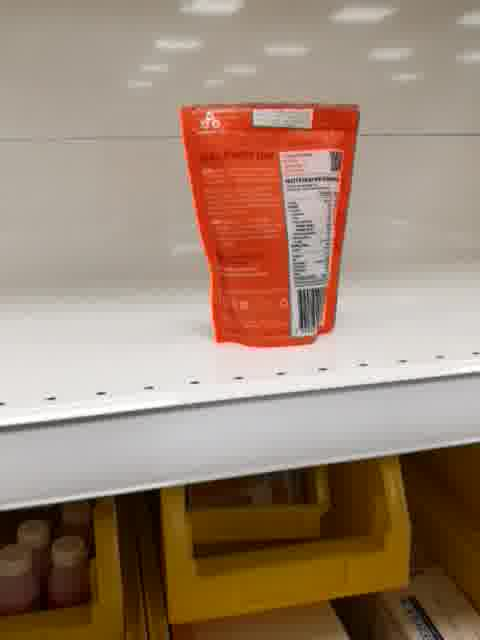whitechia: (177, 95, 364, 347)
